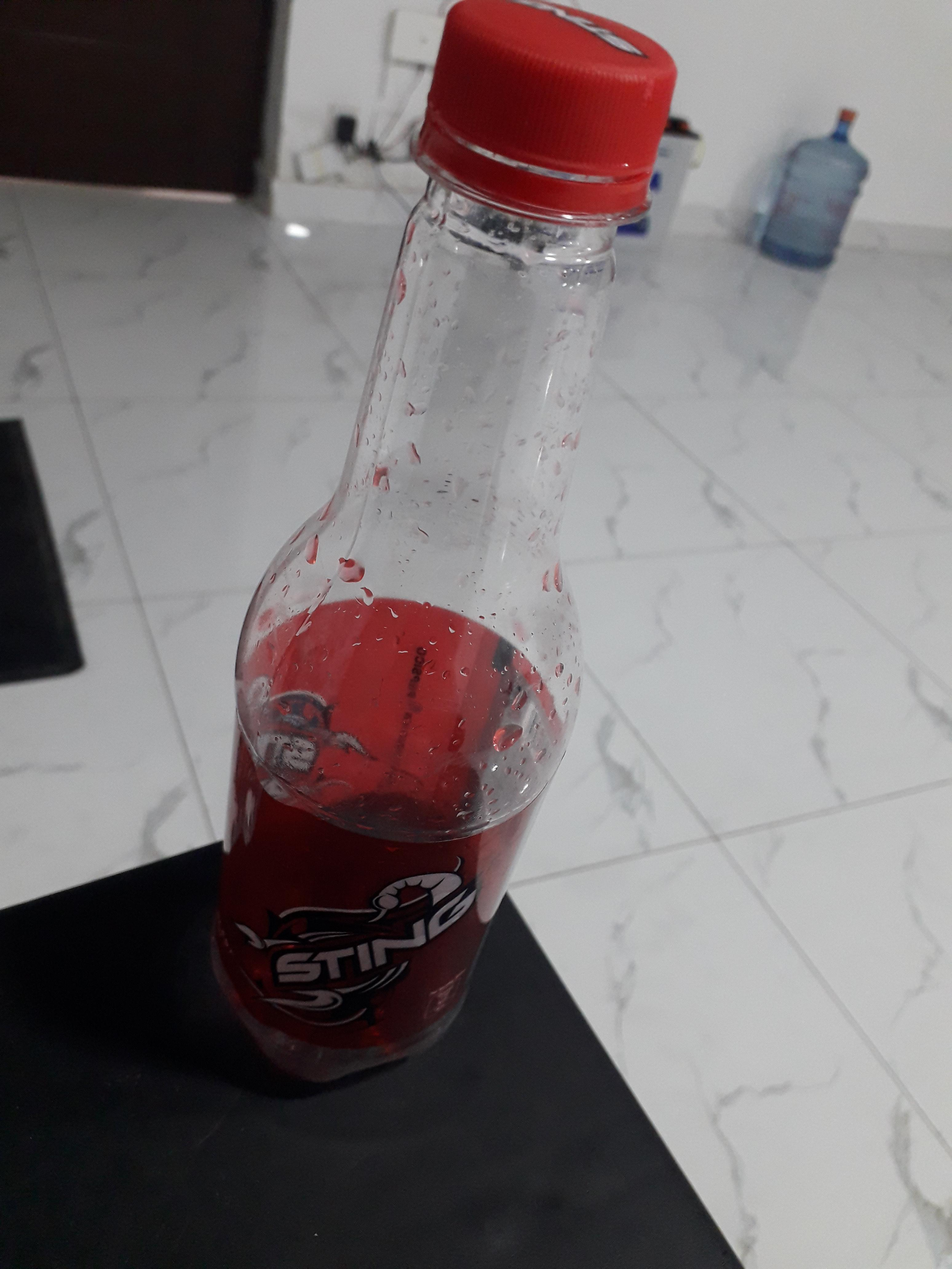bottle-plastic: (210, 0, 679, 1083)
